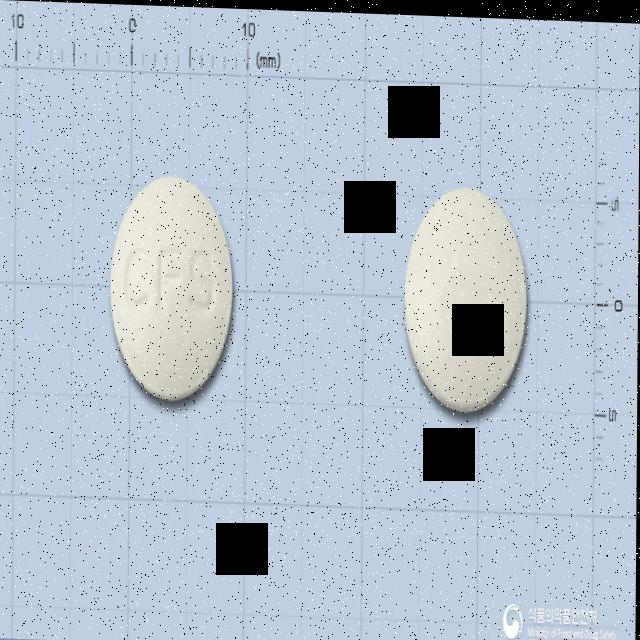Azabio: (405, 182, 530, 413), (112, 171, 236, 403)
